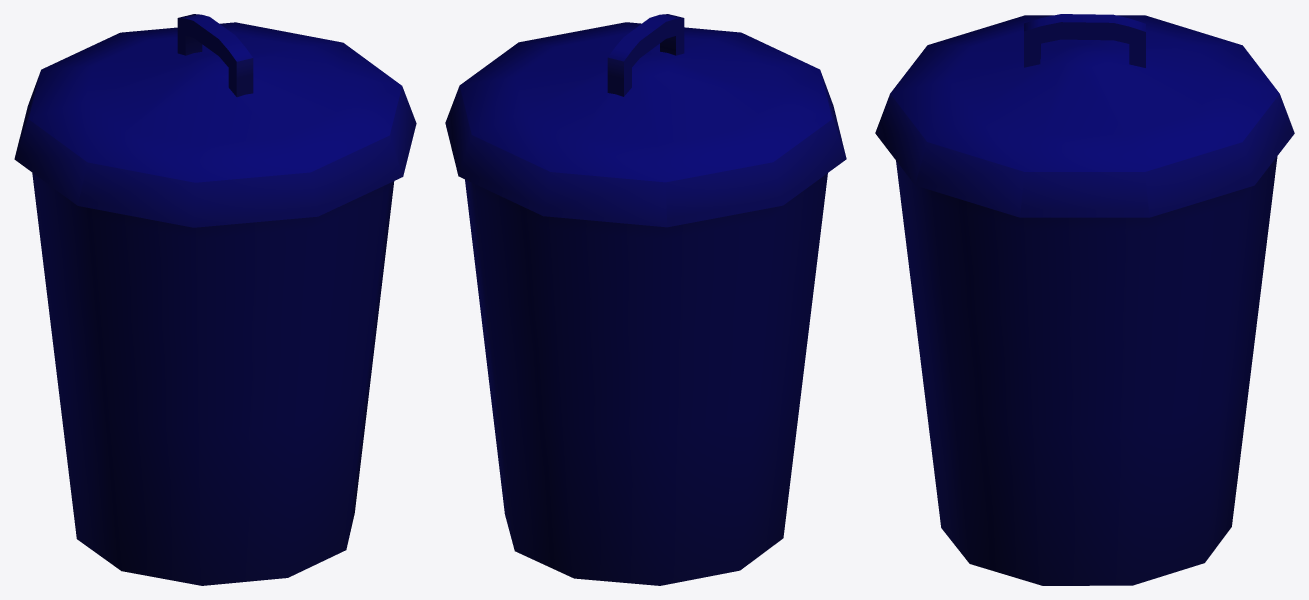
Rendered from TrashCan.glb.
The picture shows the model from 3 angles, left to right: view 1: azimuth 30°, elevation 25°; view 2: azimuth 150°, elevation 25°; view 3: azimuth 270°, elevation 25°; orthographic projection. The views are drawn at different scales.
Visible parts, largest first — view 1: TrashCan; view 2: TrashCan; view 3: TrashCan.
Boxes of the visible parts, x1=… form: TrashCan: x1=14, y1=14, x2=416, y2=585; TrashCan: x1=445, y1=14, x2=846, y2=585; TrashCan: x1=875, y1=14, x2=1294, y2=585.
Size of the model in its own units: 2.98 by 4.19 by 3.13.
